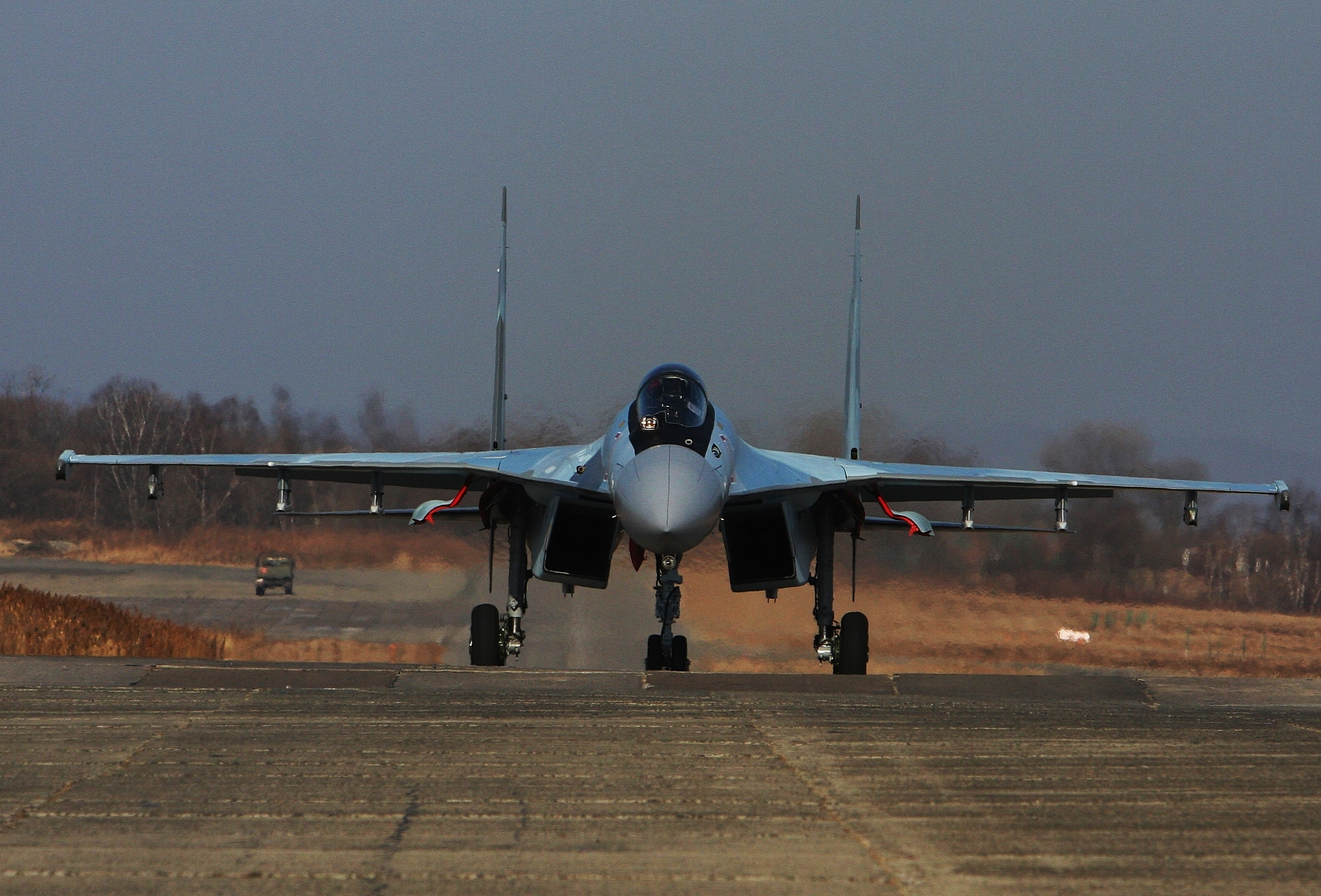Su35: (45, 178, 1306, 687)
